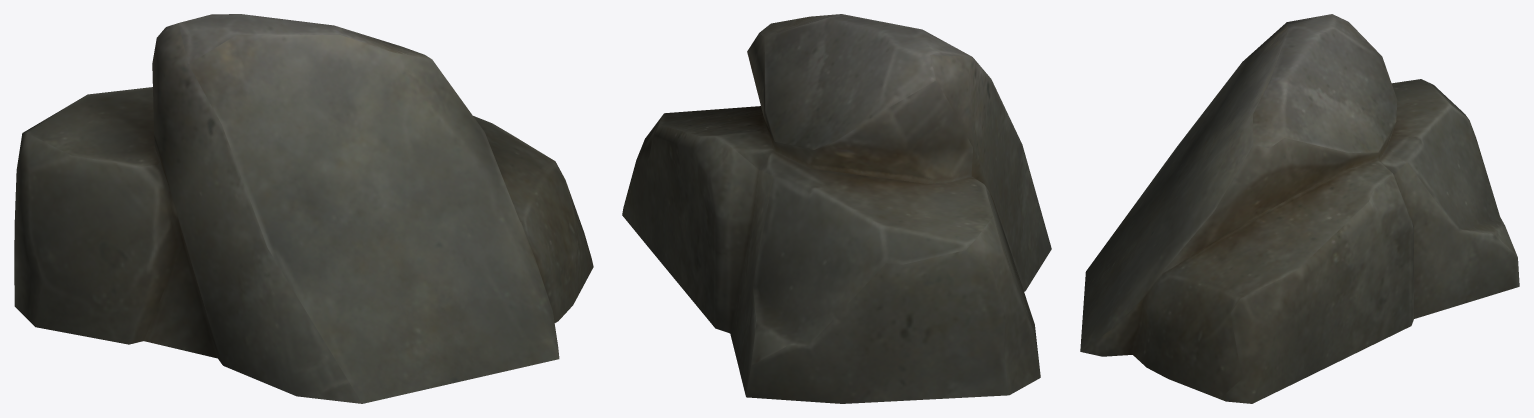
File: Rock5.fbx
3 views of the same model, side by side, from view 1: azimuth 30°, elevation 25°; view 2: azimuth 150°, elevation 25°; view 3: azimuth 270°, elevation 25° (orthographic). The views are drawn at different scales.
Visible parts, largest first — view 1: RockWall_Pile_Retopo.002_Plane.021; view 2: RockWall_Pile_Retopo.002_Plane.021; view 3: RockWall_Pile_Retopo.002_Plane.021.
Part boxes in pixels (x1,y1,x2,y2): RockWall_Pile_Retopo.002_Plane.021: (14,14,593,403); RockWall_Pile_Retopo.002_Plane.021: (622,14,1051,403); RockWall_Pile_Retopo.002_Plane.021: (1080,14,1519,403).
Bounding box in the file's own units: 363 × 204 × 334.
